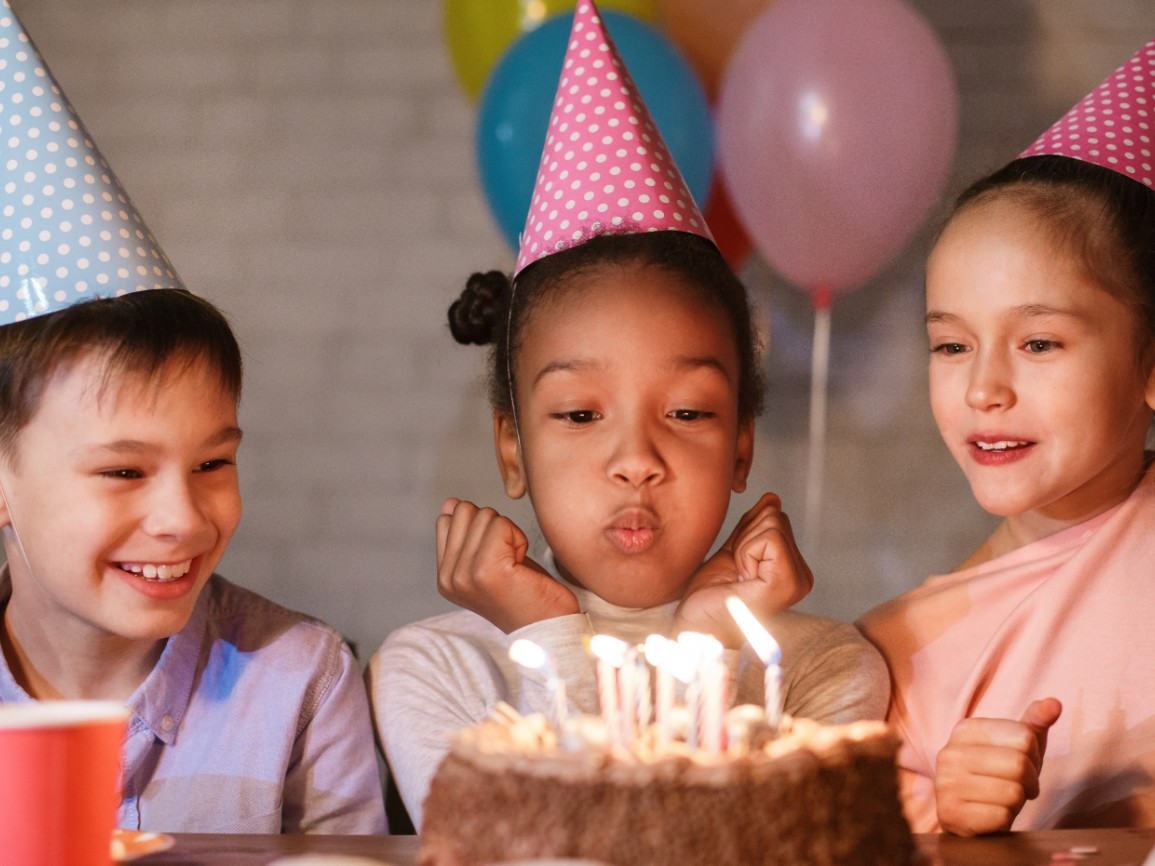cone: (1, 1, 188, 325), (511, 1, 721, 287), (1016, 36, 1155, 192)
